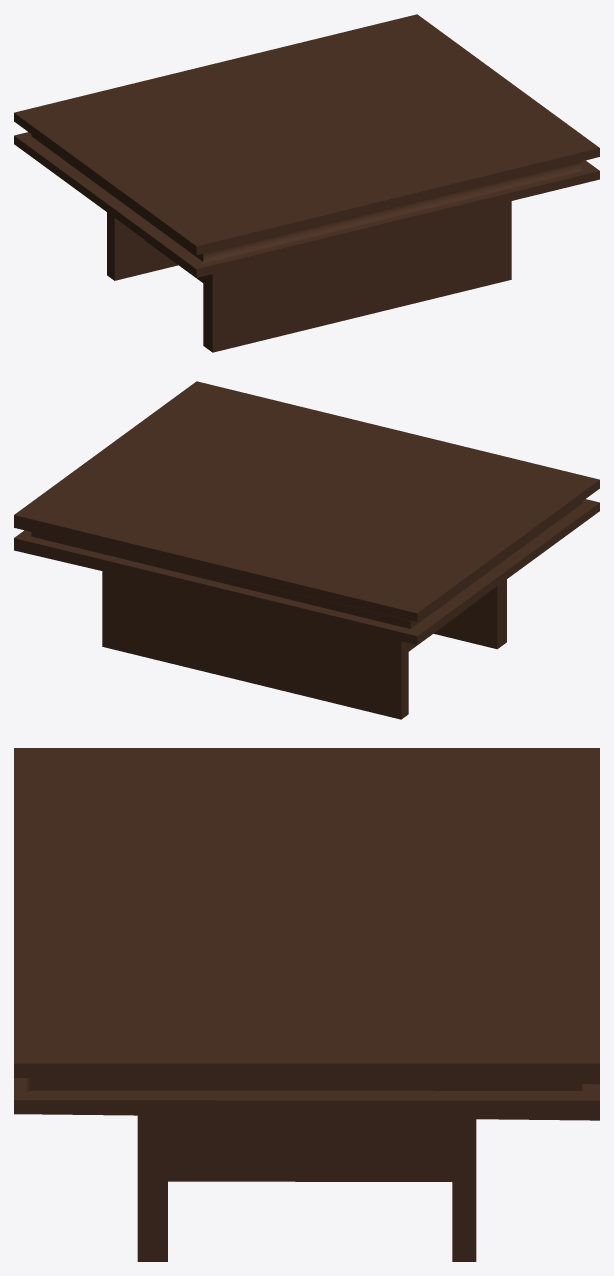
File: coffee_table.fbx
The picture shows the model from 3 angles, top to bottom: view 1: azimuth 30°, elevation 25°; view 2: azimuth 150°, elevation 25°; view 3: azimuth 270°, elevation 25°; orthographic projection. The views are drawn at different scales.
Visible parts, largest first — view 1: caffee_table; view 2: caffee_table; view 3: caffee_table.
Boxes of the visible parts, <box> form: caffee_table: <box>14,14,599,352</box>; caffee_table: <box>14,381,599,719</box>; caffee_table: <box>14,748,599,1261</box>.
Size of the model in its own units: 186 by 65.22 by 146.
